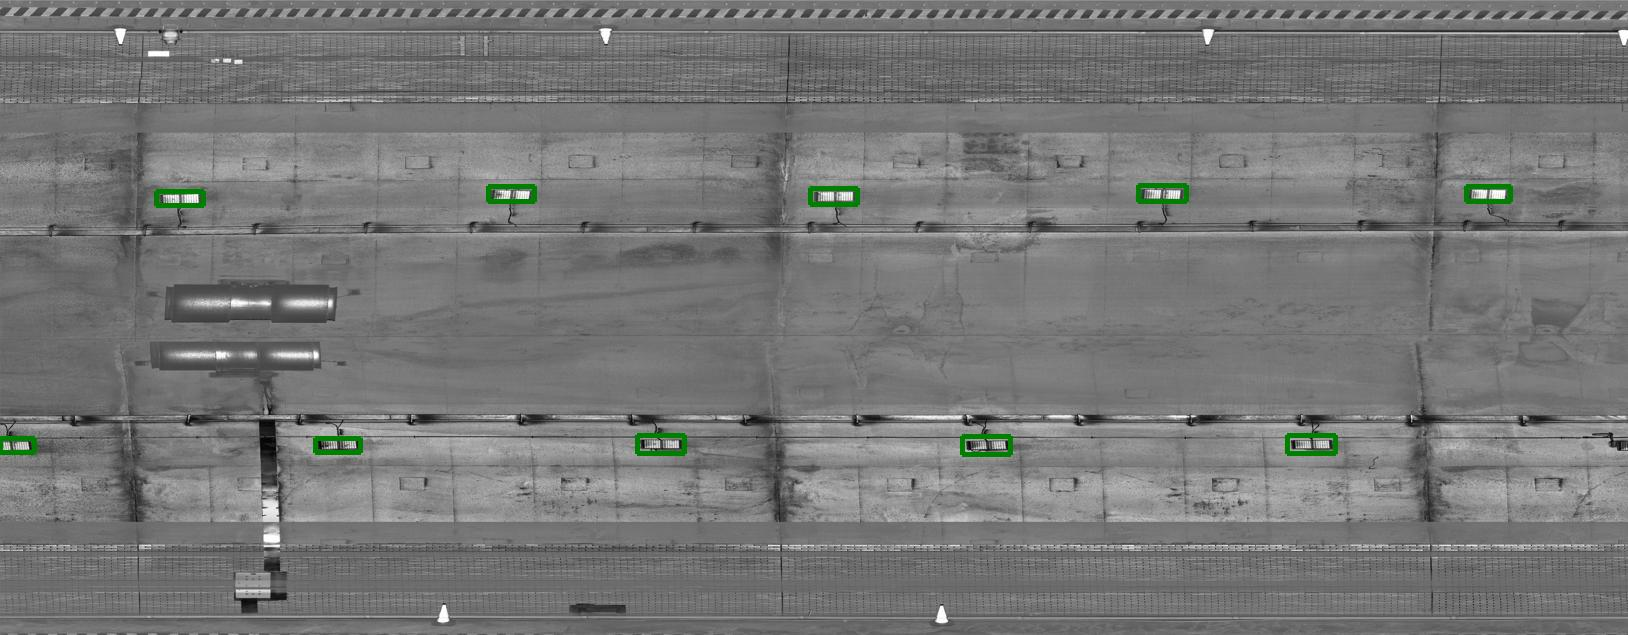light: (313, 429, 363, 453), (636, 429, 687, 453), (811, 183, 862, 208), (964, 431, 1014, 455), (1135, 180, 1186, 204), (1461, 182, 1512, 206), (154, 186, 205, 210), (486, 184, 537, 208), (1285, 432, 1336, 455), (1, 435, 34, 455)
